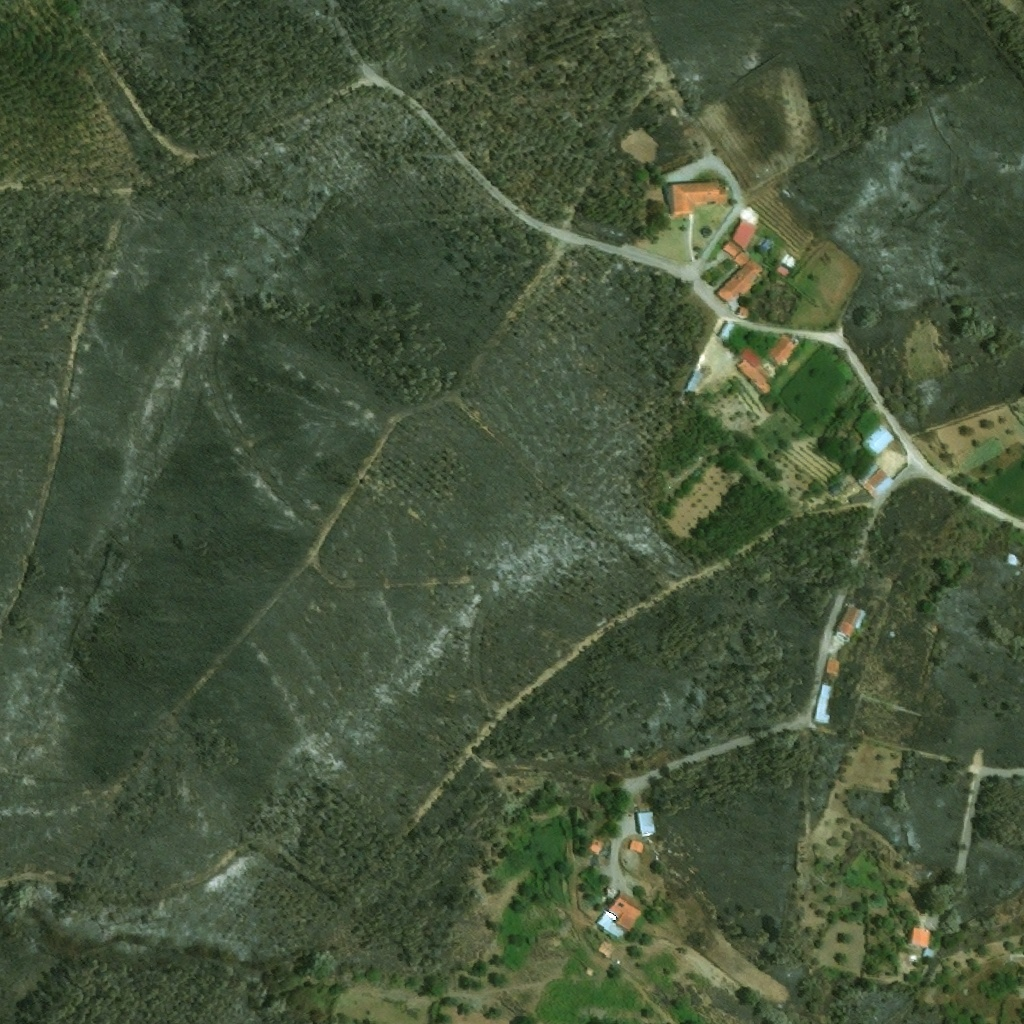0 no-damage: (715, 240, 764, 303), (596, 890, 648, 939), (662, 178, 728, 216), (734, 346, 776, 395), (855, 460, 893, 499), (834, 604, 866, 640), (860, 423, 895, 455), (766, 333, 799, 366), (909, 925, 935, 958), (731, 218, 758, 249), (814, 683, 833, 722), (635, 810, 656, 834), (683, 370, 702, 394), (716, 320, 737, 341), (596, 940, 612, 958), (588, 838, 604, 853), (826, 658, 840, 674), (629, 838, 644, 852), (775, 264, 790, 277), (828, 483, 841, 494), (1007, 553, 1017, 565), (586, 967, 595, 975)
